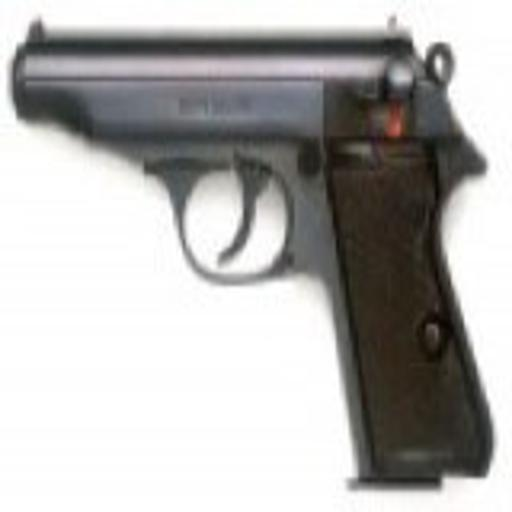Handgun: (8, 11, 504, 493)
